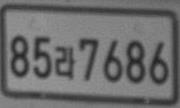5: (33, 36, 51, 79)
6: (149, 41, 169, 85), (103, 39, 123, 82)
7: (79, 37, 99, 81)
8: (126, 40, 146, 83), (10, 34, 29, 77)
라: (54, 45, 76, 79)
